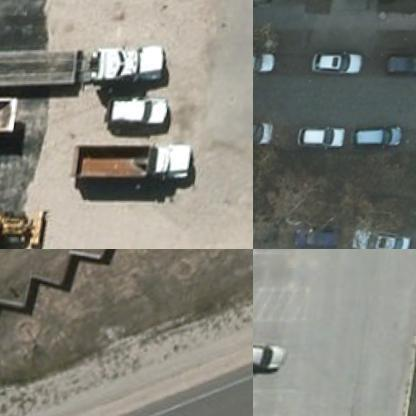car: (107, 98, 176, 127), (354, 127, 407, 159), (312, 52, 365, 80), (294, 222, 351, 248), (296, 128, 350, 155), (253, 339, 292, 376), (358, 228, 415, 248), (253, 117, 281, 154), (253, 217, 285, 247), (386, 54, 415, 83), (253, 50, 278, 79)
other: (0, 205, 55, 248)
truck: (0, 38, 176, 103), (76, 134, 200, 192)
